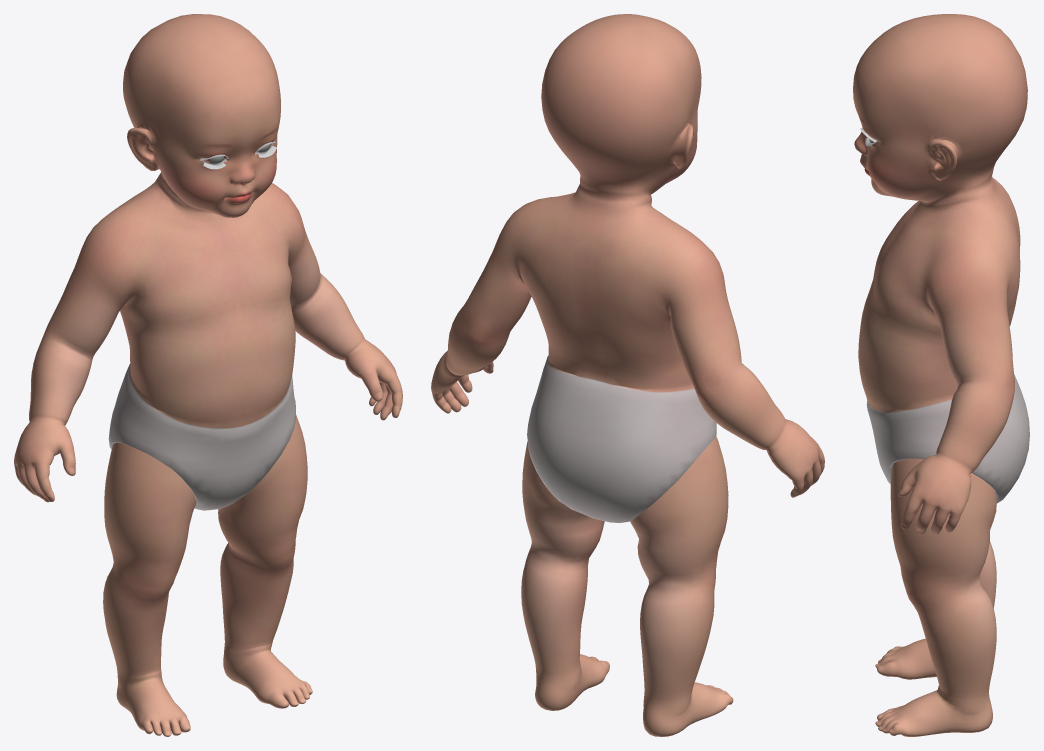
The model's file is yinger.fbx.
The picture shows the model from 3 angles, left to right: view 1: azimuth 30°, elevation 25°; view 2: azimuth 150°, elevation 25°; view 3: azimuth 270°, elevation 25°; orthographic projection.
Visible parts, largest first — view 1: body; view 2: body; view 3: body.
Boxes of the visible parts, bbox=[...] form: body: bbox=[14, 14, 402, 736]; body: bbox=[431, 14, 824, 736]; body: bbox=[853, 14, 1029, 736].
Bounding box in the file's own units: 29.5 × 51.23 × 12.1.
